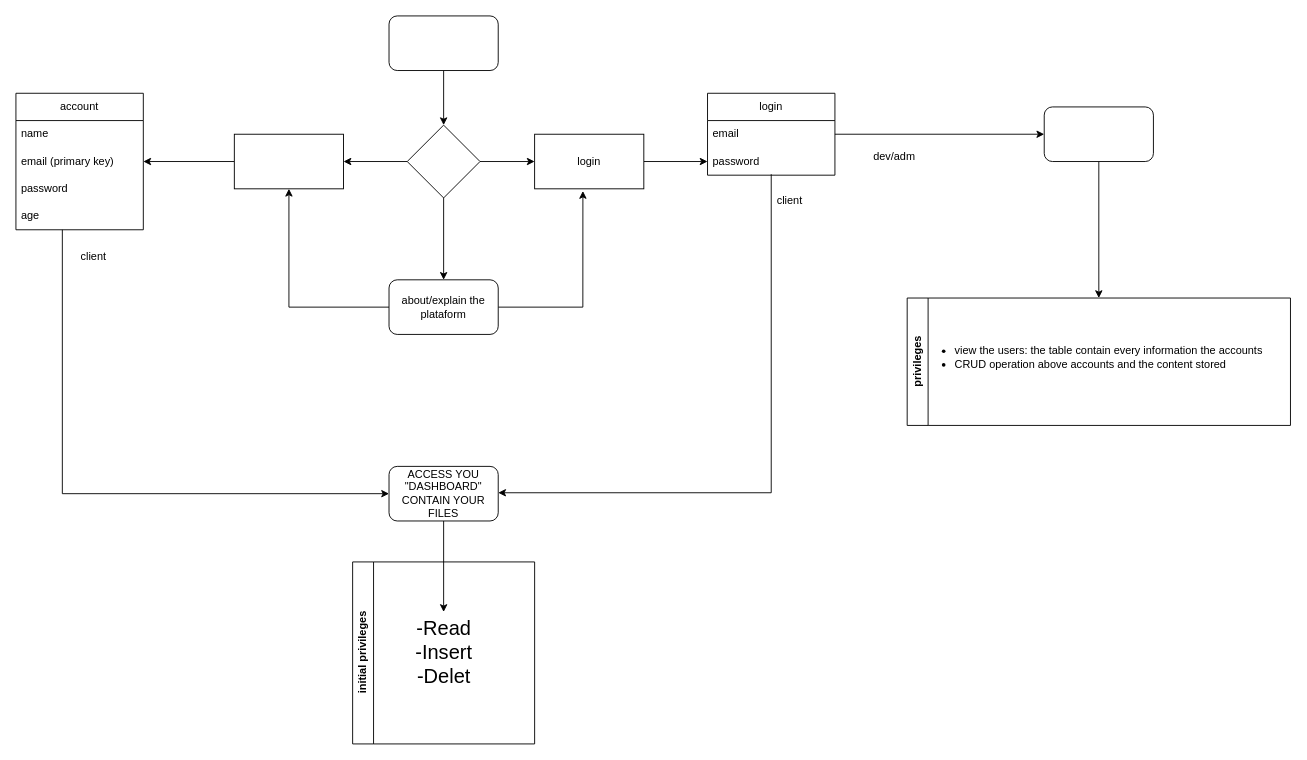
The diagram is 1307 pixels wide and 760 high, and some of its shapes have lost their labels. Each missing label, with the centre of its shape:
ADMIN: (1098,134)
create account: (288,161)
START - WEB PAGE INICIAL: (443,43)
